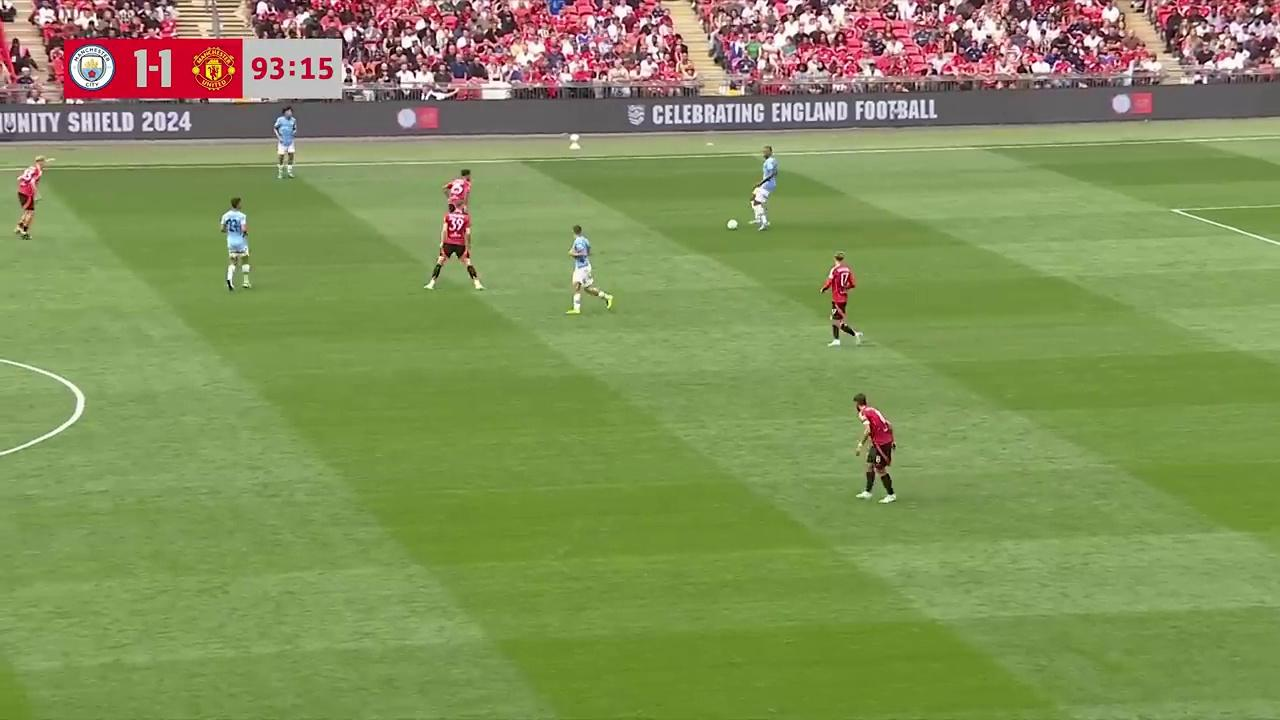ball: (725, 216, 738, 231)
player: (425, 208, 484, 290), (853, 395, 897, 502), (566, 225, 612, 315), (820, 253, 860, 347), (220, 197, 252, 291), (746, 147, 778, 233), (15, 156, 45, 240), (273, 107, 297, 180), (443, 169, 471, 219)
